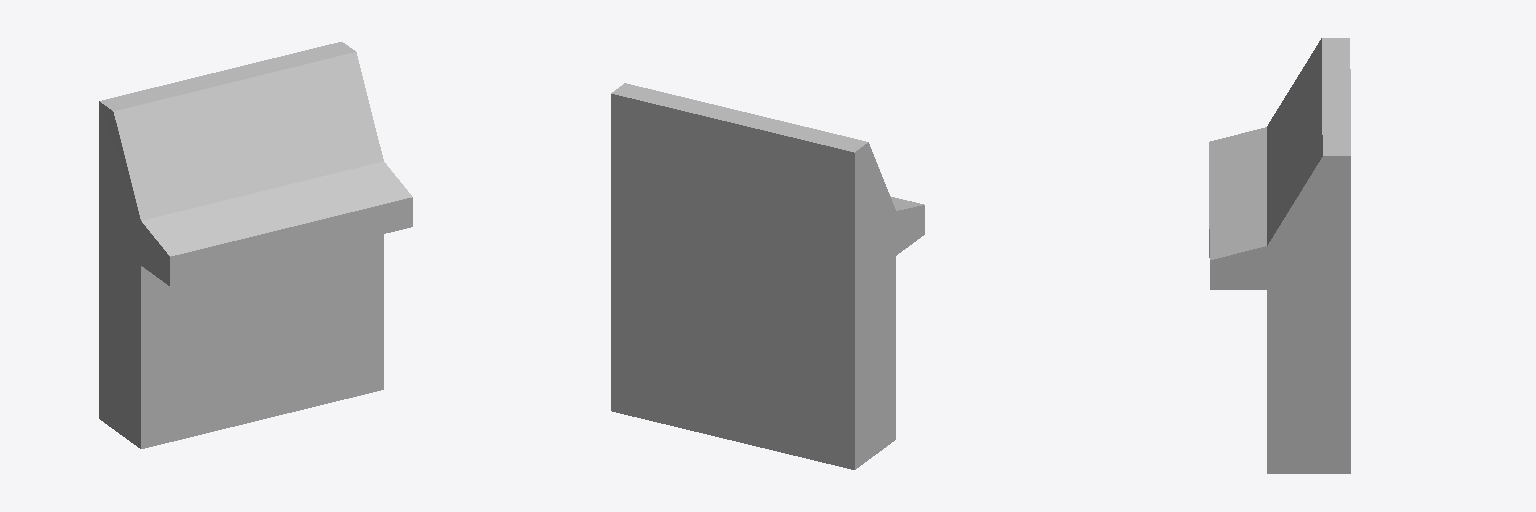
File: INS (Base).obj
3 renders of one model, left to right at view 1: azimuth 30°, elevation 25°; view 2: azimuth 150°, elevation 25°; view 3: azimuth 270°, elevation 25°, orthographic.
Parts seen in each view (by area): view 1: INS_2S; view 2: INS_2S; view 3: INS_2S.
Part boxes in pixels (bbox=[...]): INS_2S: bbox=[99, 42, 412, 448]; INS_2S: bbox=[611, 83, 924, 469]; INS_2S: bbox=[1209, 38, 1350, 473].
Bounding box in the file's own units: 1 × 1.25 × 0.5064.